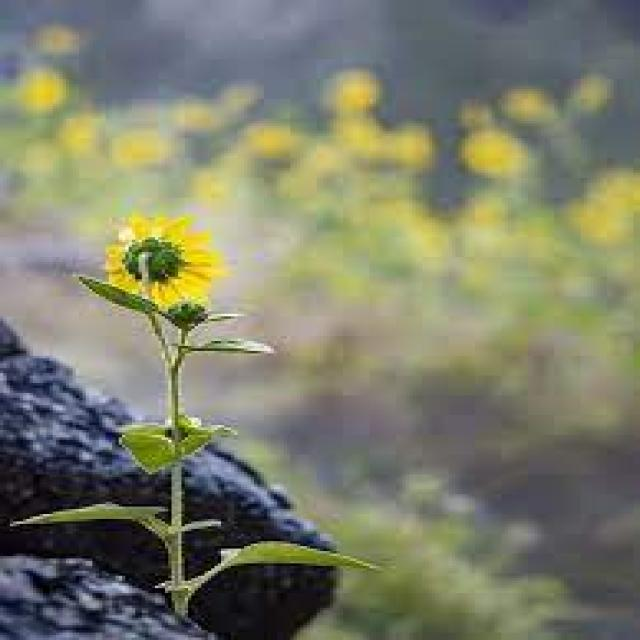sunflower: (101, 202, 224, 334)
